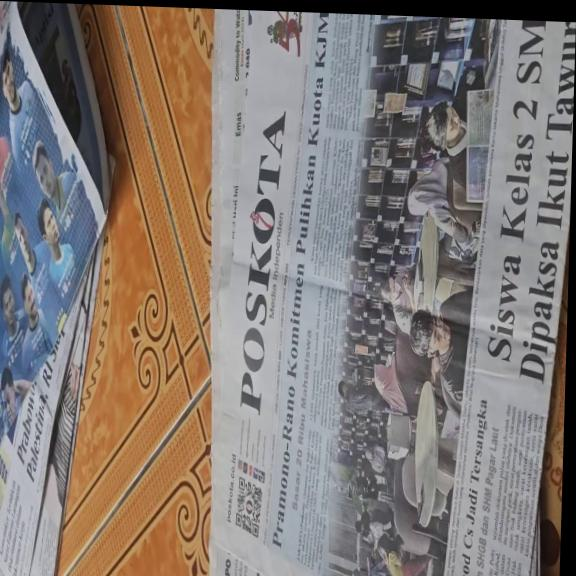Kertas: (222, 19, 567, 576), (0, 247, 100, 576)
